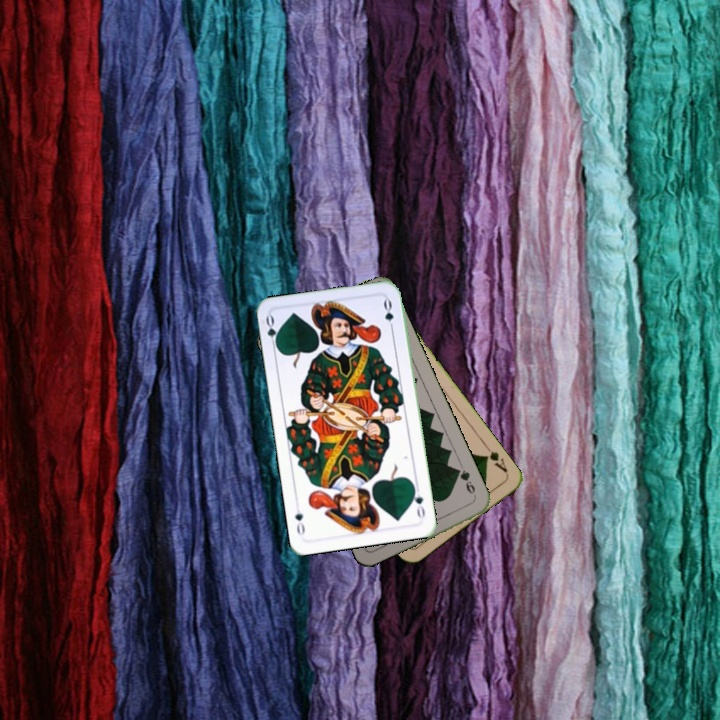G9: (452, 464, 479, 501)
GA: (480, 441, 510, 477)
GO: (262, 312, 282, 353), (408, 482, 428, 521)
